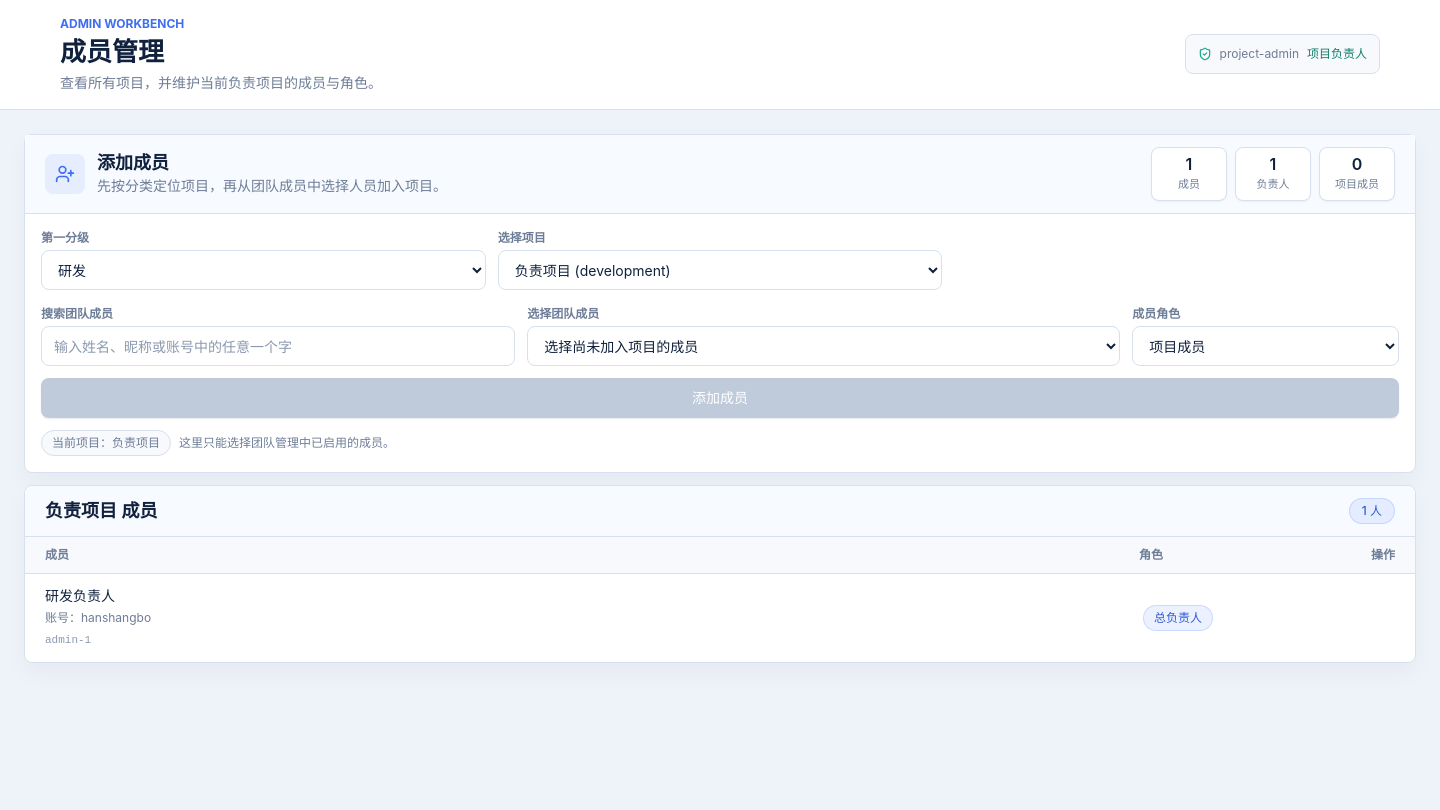
Test: MembersPage › shows the full catalog to a project administrator but only manages their own project
The image size is (1440, 810).
Expected: the button "添加成员" is shown, top-left (41, 378), bottom-right (1399, 418)
Select "市场" in the dropdown labelled "第一分级" at coordinates (263, 270), box top-left (41, 250), bottom-right (486, 290)
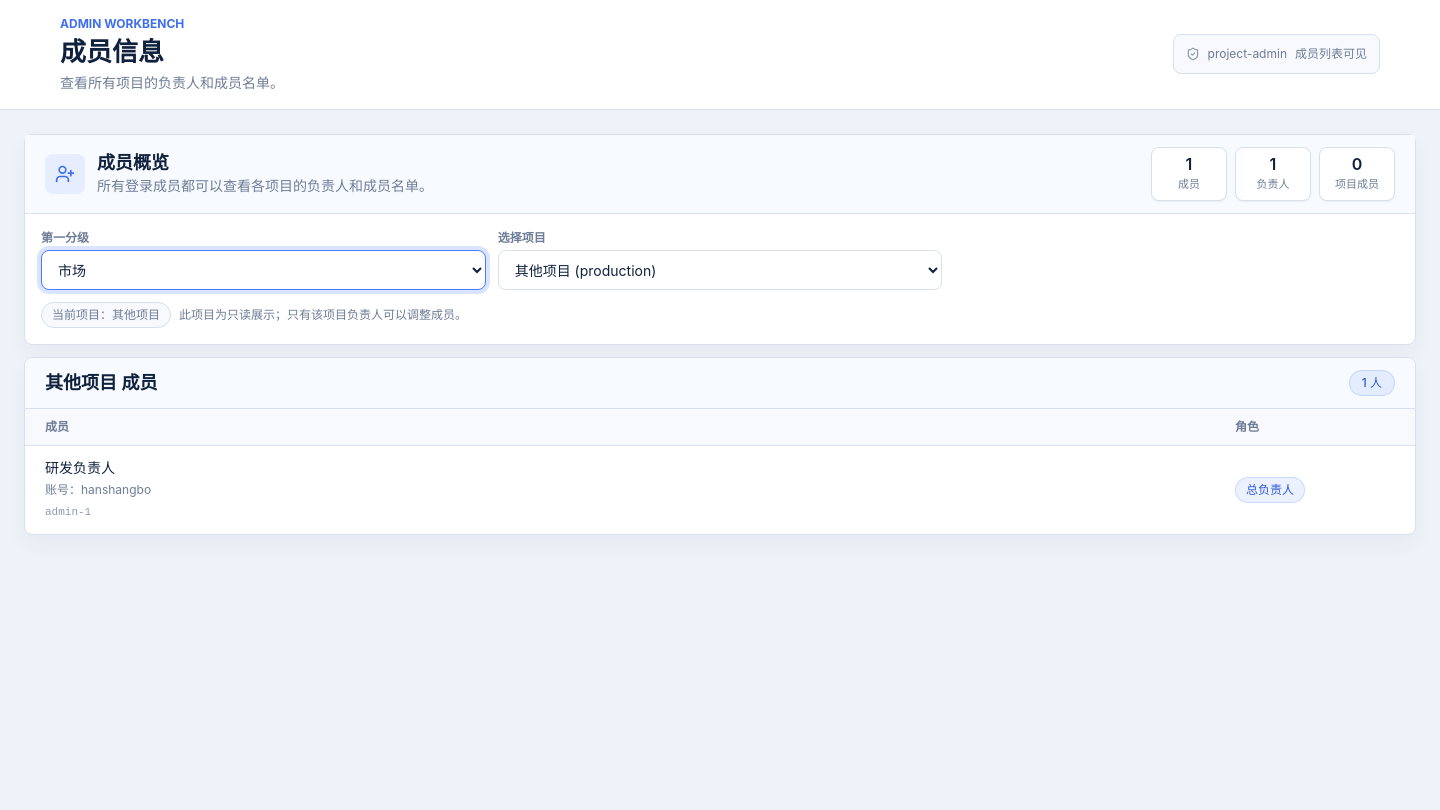
Expected: the heading "添加成员" is gone
